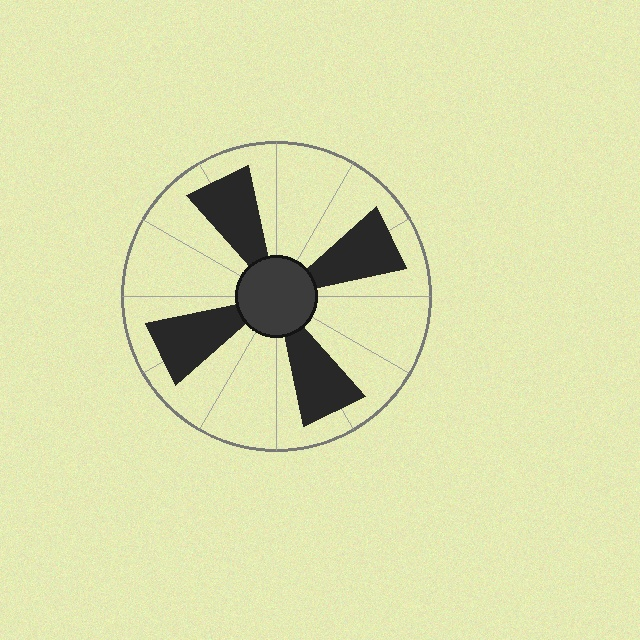fan: (117, 137, 435, 455)
